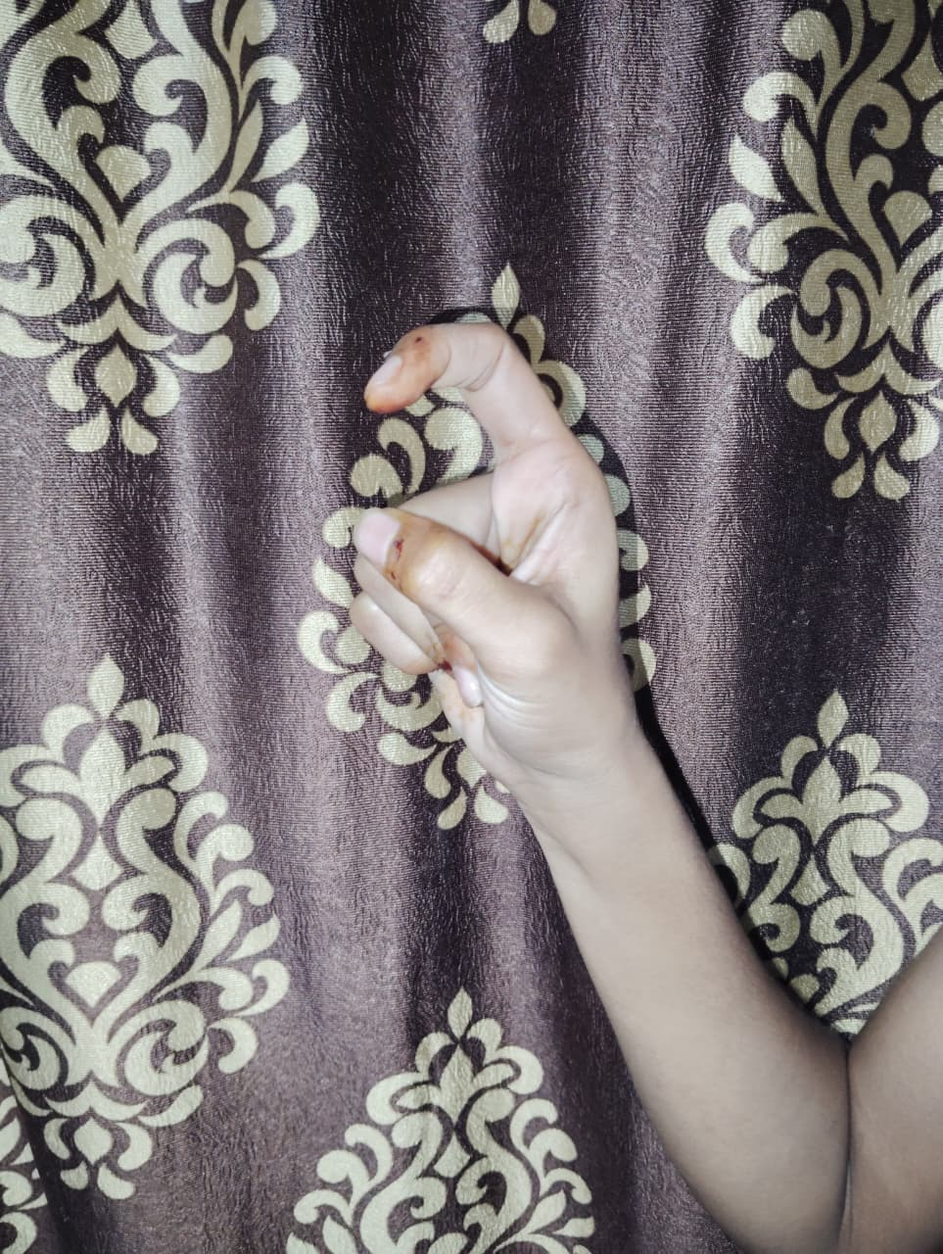X: (348, 324, 628, 797)
